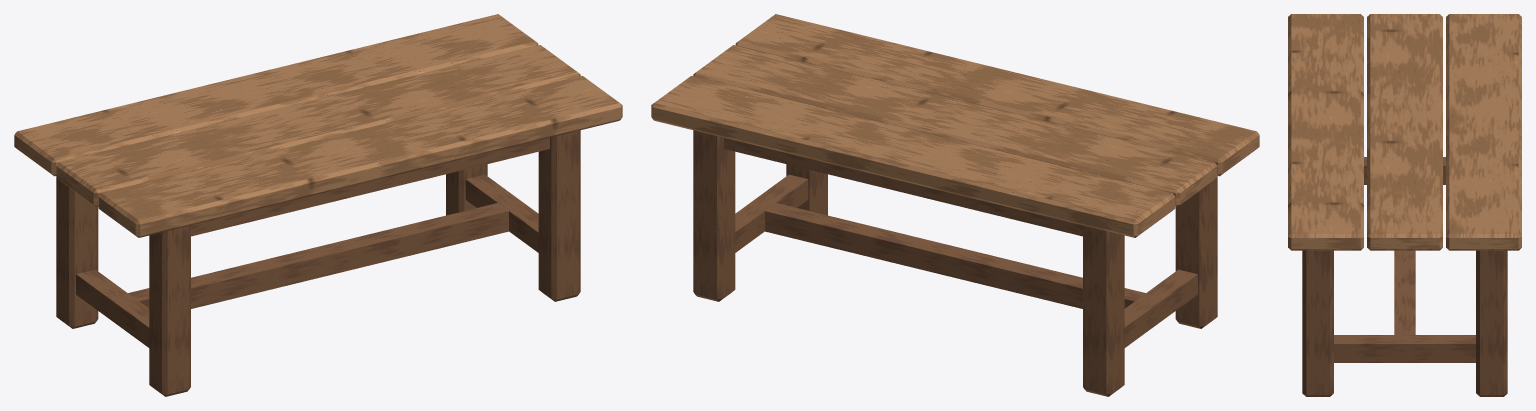
File: guild_table.glb
The picture shows the model from 3 angles, left to right: view 1: azimuth 30°, elevation 25°; view 2: azimuth 150°, elevation 25°; view 3: azimuth 270°, elevation 25°; orthographic projection. The views are drawn at different scales.
Visible parts, largest first — view 1: guild_table_tabletop, guild_table_legs_crossbeams; view 2: guild_table_tabletop, guild_table_legs_crossbeams; view 3: guild_table_tabletop, guild_table_legs_crossbeams.
Part boxes in pixels (x1,y1,x2,y2): guild_table_tabletop: (14,14,622,237); guild_table_legs_crossbeams: (56,130,580,396); guild_table_tabletop: (651,14,1259,237); guild_table_legs_crossbeams: (693,130,1217,396); guild_table_tabletop: (1288,14,1521,250); guild_table_legs_crossbeams: (1302,157,1507,396).
Size of what is drawn, in the model's own units: 2 by 0.75 by 0.888.
2 materials, 2 textured.
